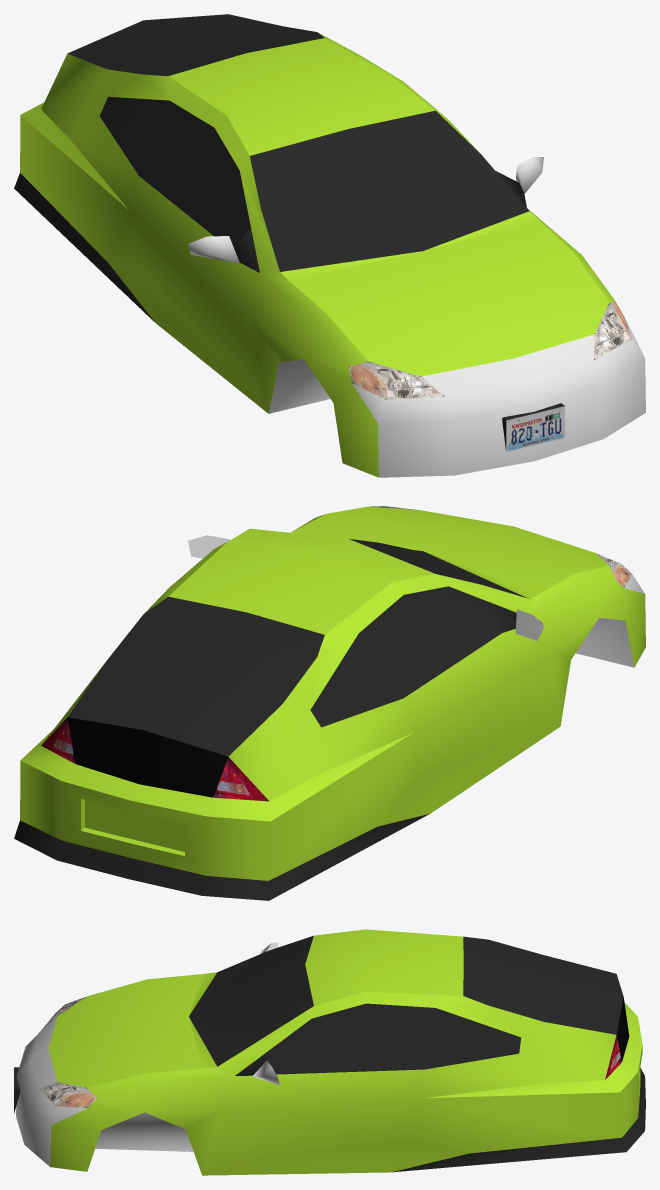
Rendered from v_insight.fbx.
3 views of the same model, one above another, from view 1: azimuth 30°, elevation 25°; view 2: azimuth 150°, elevation 25°; view 3: azimuth 270°, elevation 25° (orthographic). The views are drawn at different scales.
Parts seen in each view (by area): view 1: body; view 2: body; view 3: body.
Boxes of the visible parts, x1,y1,x2,y2 form: body: (14,14,645,477); body: (14,506,645,900); body: (14,929,645,1175).
Size of the model in its own units: 1.74 by 0.9965 by 3.44.
